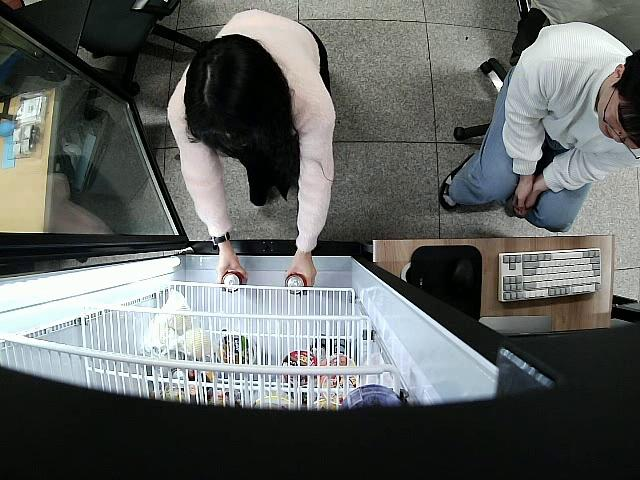00_hand: (214, 249, 247, 291), (286, 250, 317, 289)
11_cocaColaZero: (219, 271, 246, 294), (285, 273, 307, 295)
